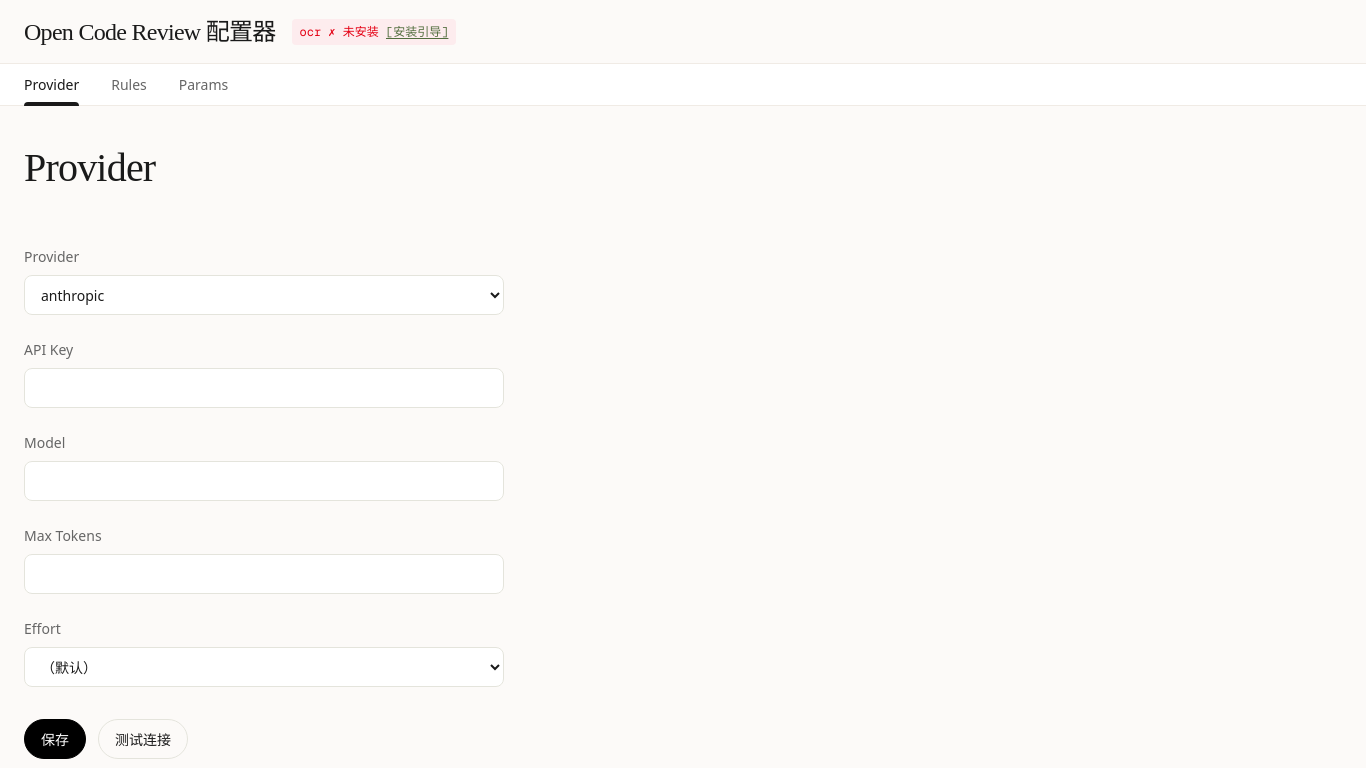
Test: App 全局 Toast 集成 › 切换到 Rules Tab 后，其保存结果同样进入同一个全局 Toast 容器
Step 1. Click the button "Rules" → (129, 84), box [111,64,147,105]
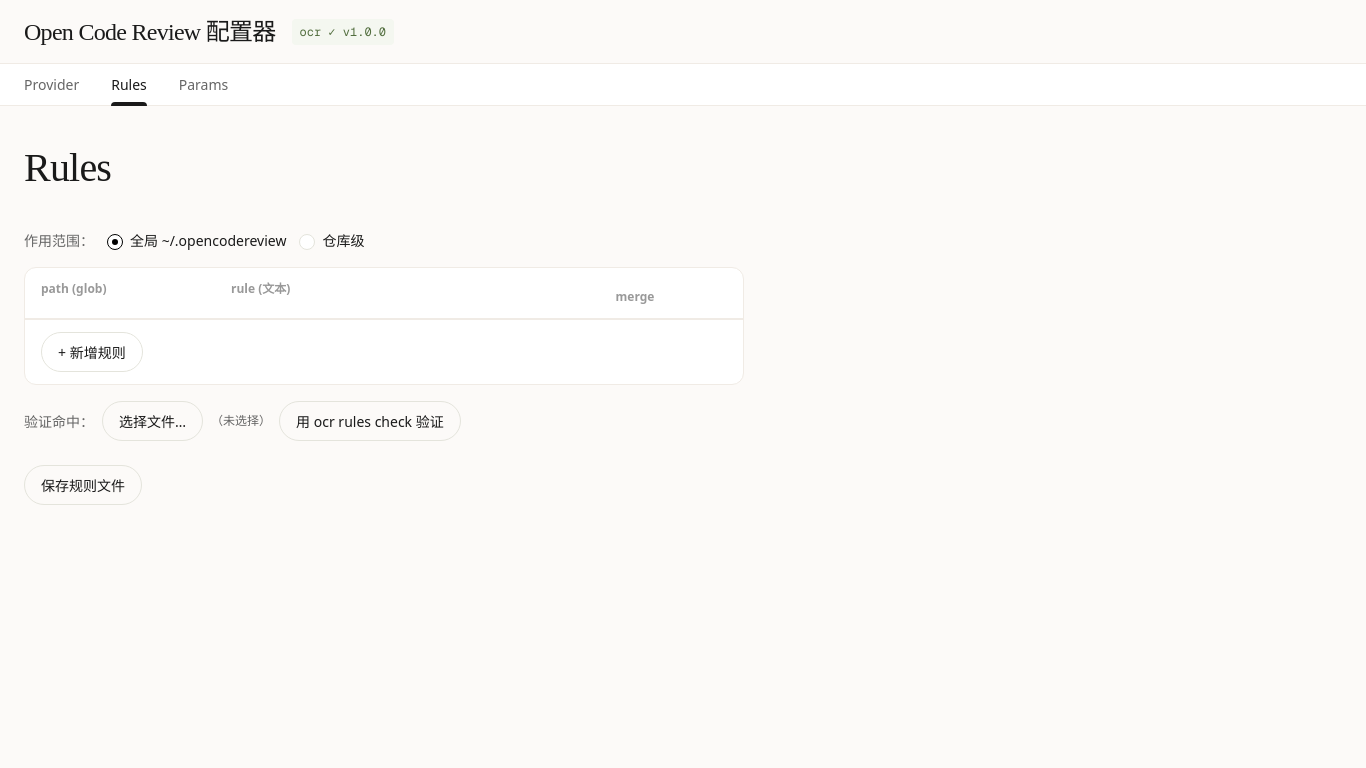
// 未选仓库目录时保存应提示（global 作用范围下空规则集可直接保存）。
Step 2. Click the button "保存规则文件" → (83, 485), box [24,465,142,505]
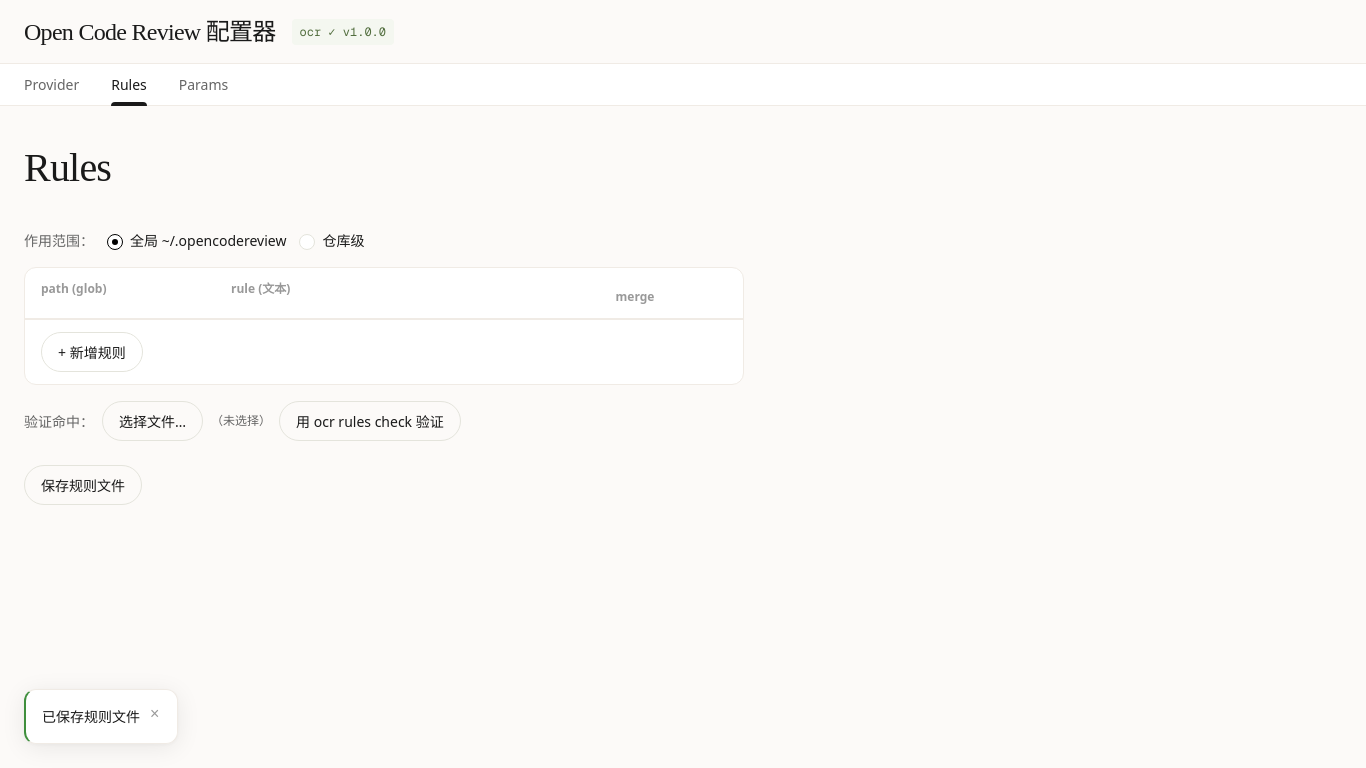
expect the text "已保存规则文件" is shown: met, box [42,706,140,727]
expect the element with class "toast-container" is shown: met, box [24,689,178,744]
